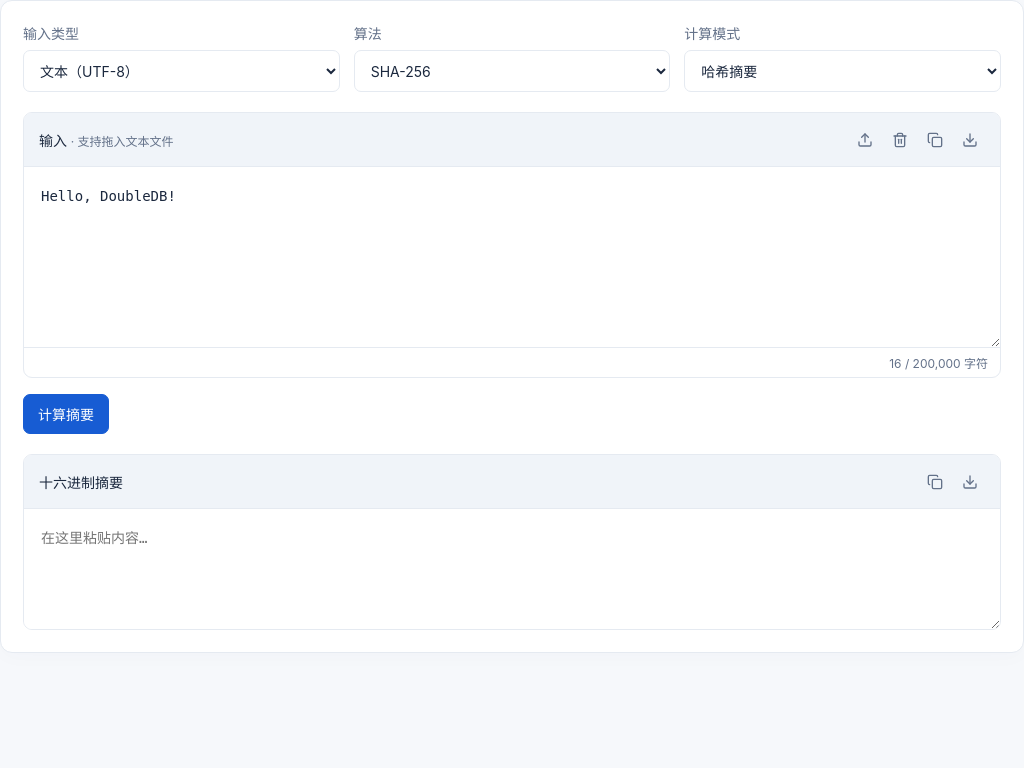
Test case: hash computes a known digest
Replace the text in the text box named "输入" with "abc" at (512, 257), box 24,167 -> 1000,347
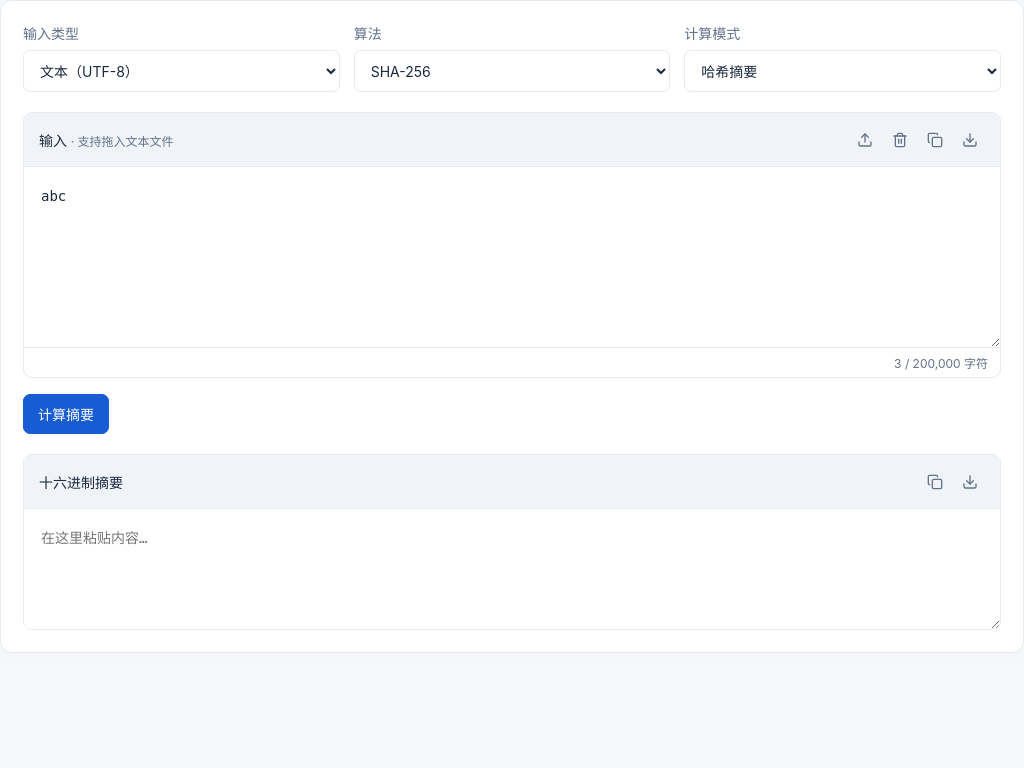
Click the button "计算摘要".
click(66, 414)  # box 23,394 -> 109,434
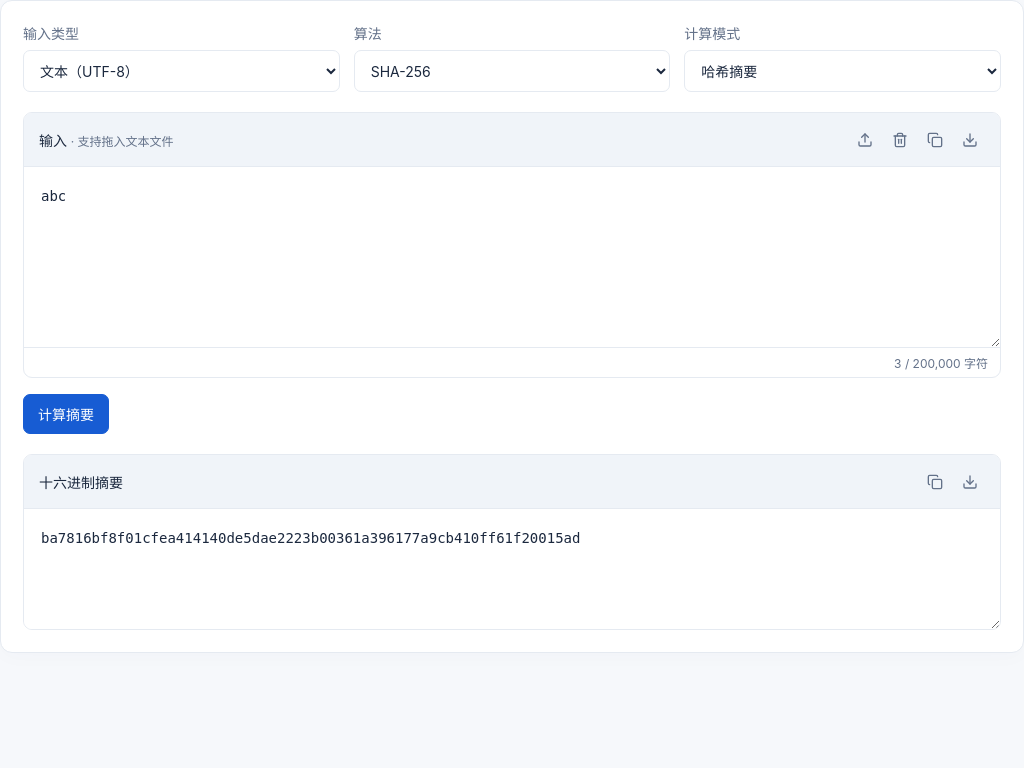
Expected: the text box named "十六进制摘要" holds "ba7816bf8f01cfea414140de5dae2223b00361a396177a9cb410ff61f20015ad", 24,509 -> 1000,629
